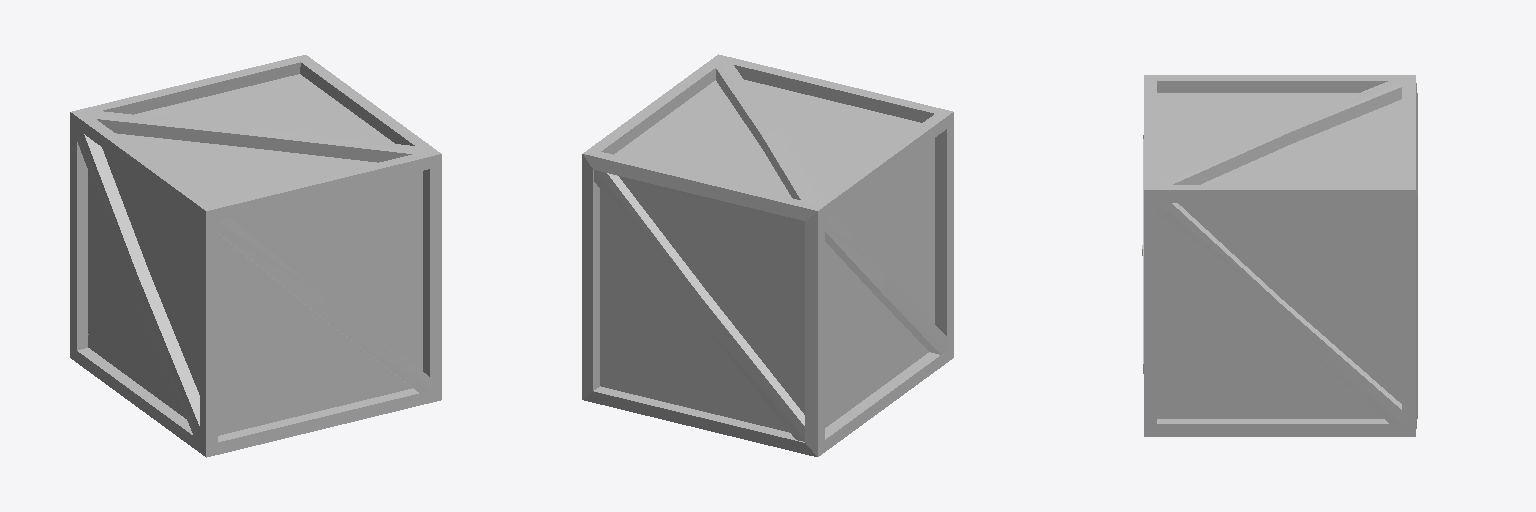
File: TestCube.obj
3 views of the same model, side by side, from view 1: azimuth 30°, elevation 25°; view 2: azimuth 150°, elevation 25°; view 3: azimuth 270°, elevation 25° (orthographic).
Visible parts, largest first — view 1: Cube_Cube.002, Cube.003_Cube.005, Cube.006_Cube.008, Cube.004_Cube.006; view 2: Cube_Cube.002, Cube.001_Cube.003, Cube.003_Cube.005, Cube.006_Cube.008; view 3: Cube_Cube.002, Cube.002_Cube.004, Cube.006_Cube.008.
Part boxes in pixels (left/top/right/bottom): Cube_Cube.002: left=70, top=55, right=441, bottom=457; Cube.003_Cube.005: left=77, top=129, right=199, bottom=439; Cube.006_Cube.008: left=90, top=111, right=424, bottom=162; Cube.004_Cube.006: left=218, top=218, right=431, bottom=392; Cube_Cube.002: left=582, top=54, right=953, bottom=456; Cube.001_Cube.003: left=594, top=170, right=804, bottom=441; Cube.003_Cube.005: left=825, top=214, right=947, bottom=354; Cube.006_Cube.008: left=715, top=62, right=819, bottom=202; Cube_Cube.002: left=1144, top=75, right=1417, bottom=436; Cube.002_Cube.004: left=1157, top=203, right=1403, bottom=423; Cube.006_Cube.008: left=1157, top=81, right=1401, bottom=184.
Bounding box in the file's own units: 2.02 × 2.02 × 2.02.